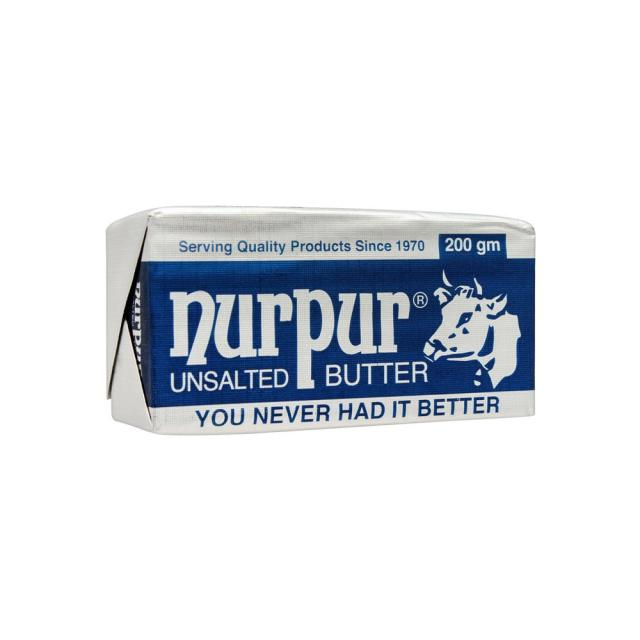butter: (105, 205, 536, 436)
